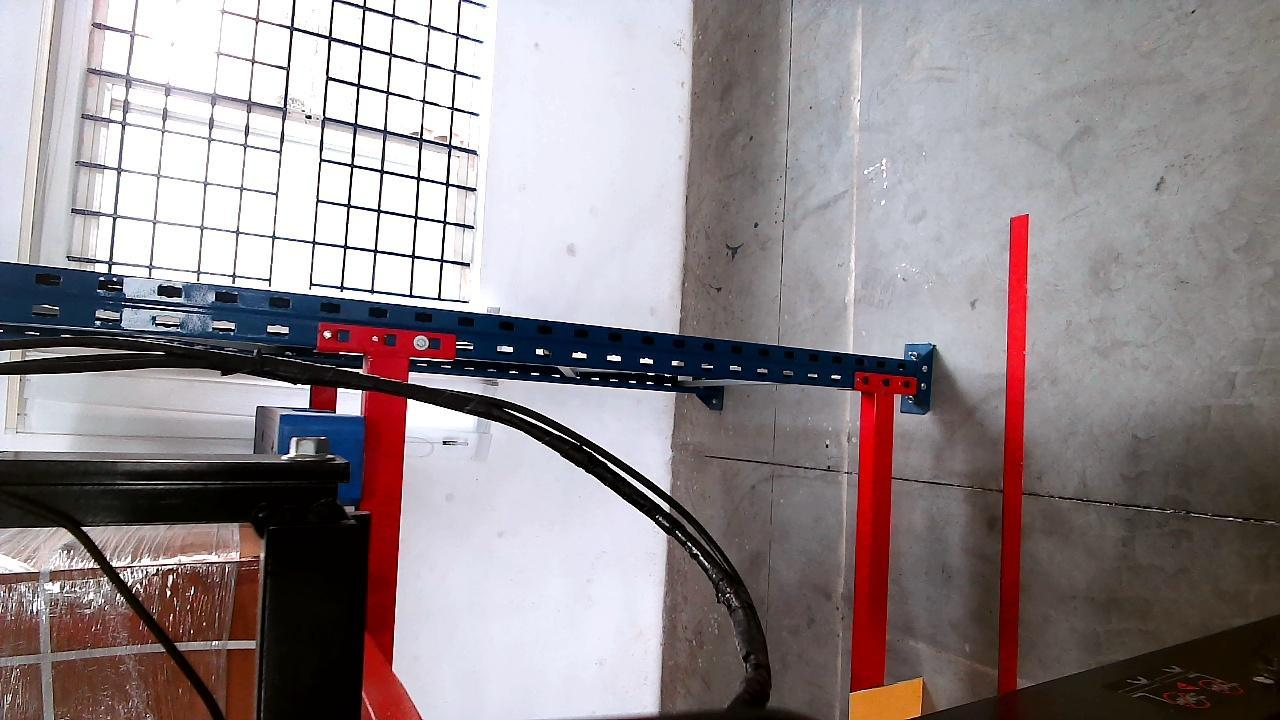red_line: (1001, 220, 1028, 695)
